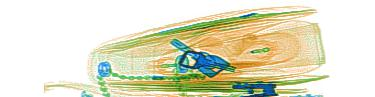plasticBottleWithaNozzle: (198, 19, 331, 79)
